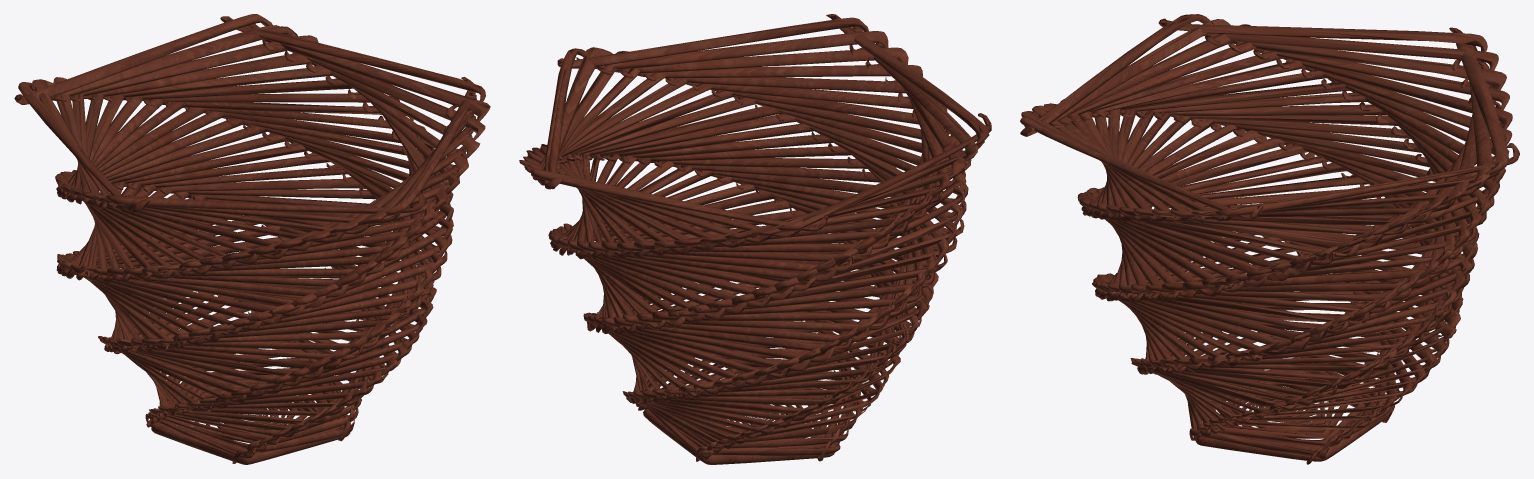
Rendered from twisted.glb.
The picture shows the model from 3 angles, left to right: view 1: azimuth 30°, elevation 25°; view 2: azimuth 150°, elevation 25°; view 3: azimuth 270°, elevation 25°; orthographic projection. The views are drawn at different scales.
Visible parts, largest first — view 1: Cube.039_Material_0; view 2: Cube.039_Material_0; view 3: Cube.039_Material_0.
Part boxes in pixels (bbox=[...]): Cube.039_Material_0: bbox=[14, 14, 490, 464]; Cube.039_Material_0: bbox=[519, 14, 991, 464]; Cube.039_Material_0: bbox=[1020, 14, 1519, 464].
Size of the model in its own units: 0.4106 by 0.3 by 0.4298.
1 material, 1 textured.
